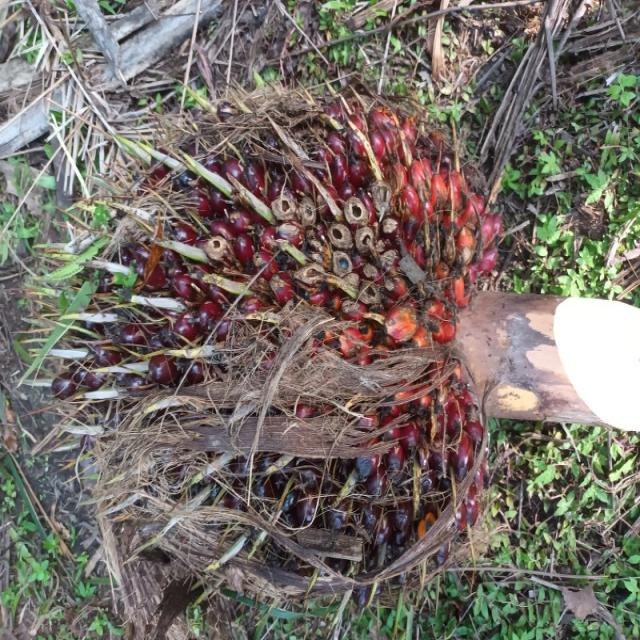fraksi 1: (21, 77, 416, 640)
